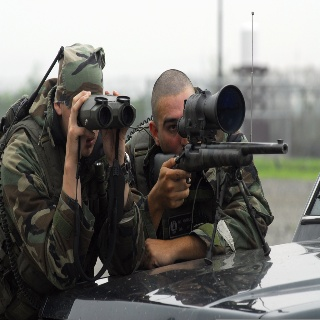rifle: (150, 84, 290, 268)
